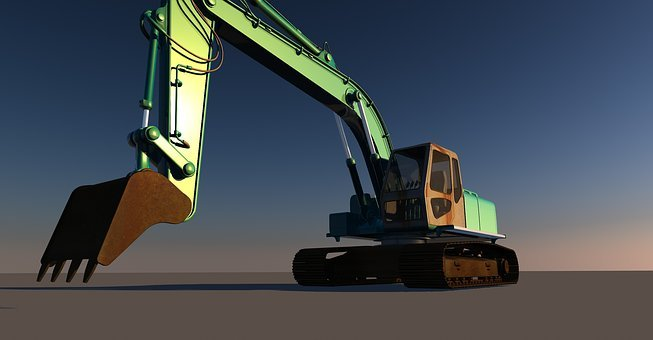excavator: (46, 1, 525, 298)
